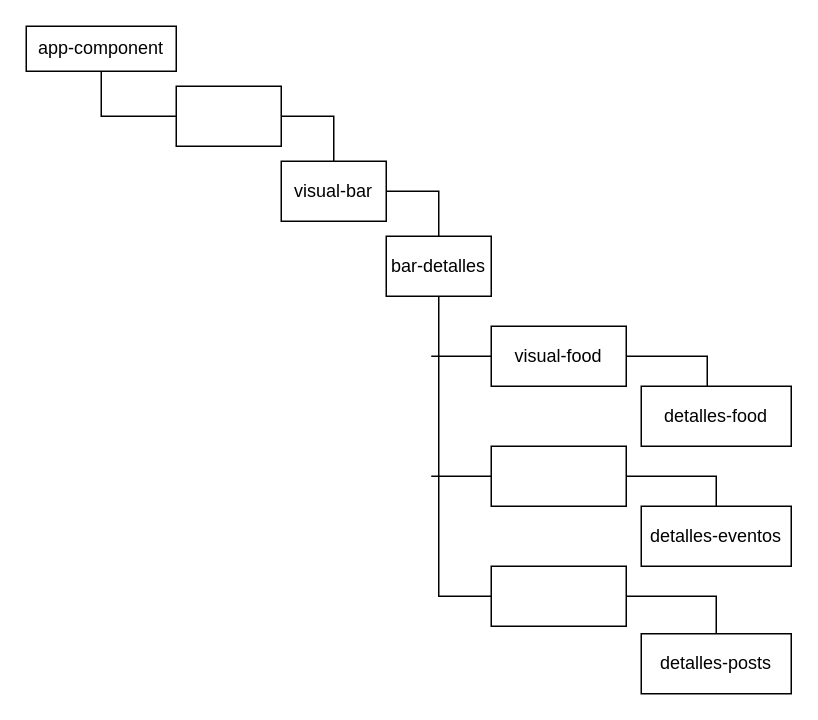
This 818x720 diagram has some shape labels left out. The shapes that lost their labels are listed below. From the top down, each one's centre as x and y in pixels, then its label:
point 228,115: grid-bar
point 558,475: visual-eventos
point 558,595: visual-posts
